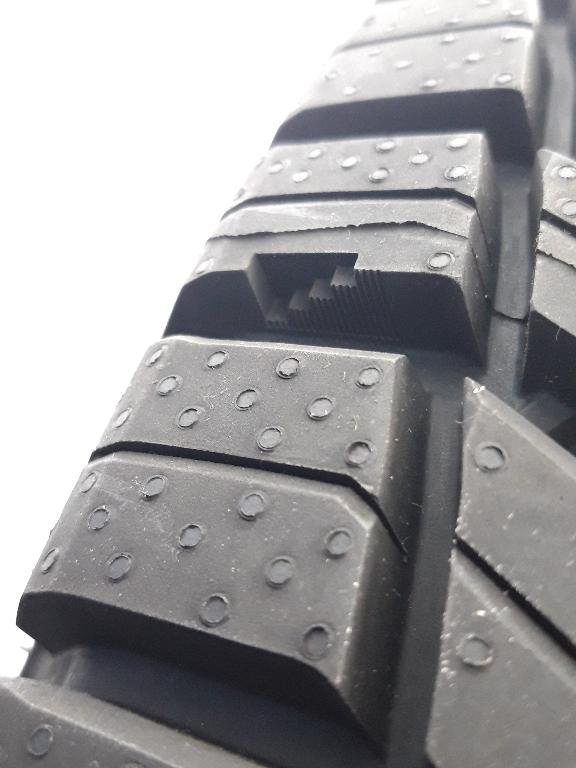temoin:100: (232, 243, 416, 352)
